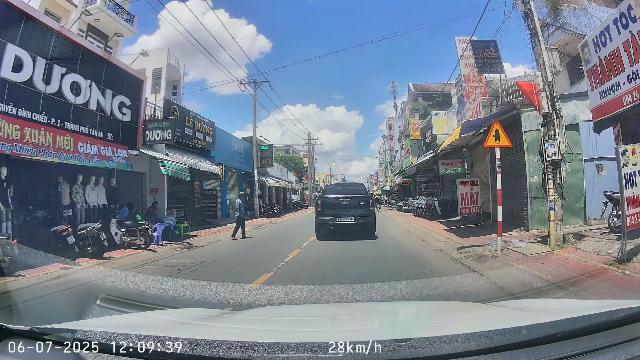207-giao-nhau-voi-duong-khong-uu-tien: (483, 117, 512, 148)
